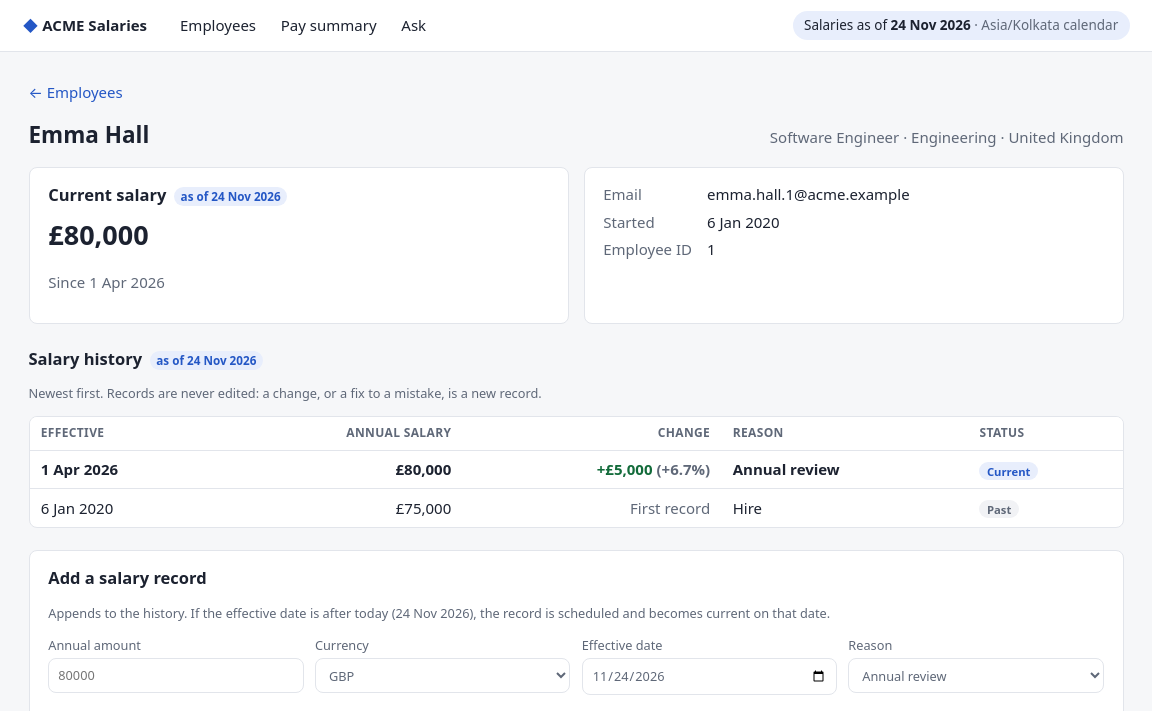
Scenario: add salary record form › refuses a second record on a date that already has one, before asking the server
Expected: the heading "Emma Hall" is shown, [28,118,149,152]
Type "90000" into the field labelled "Annual amount" at (176, 675), box [48,658,304,692]
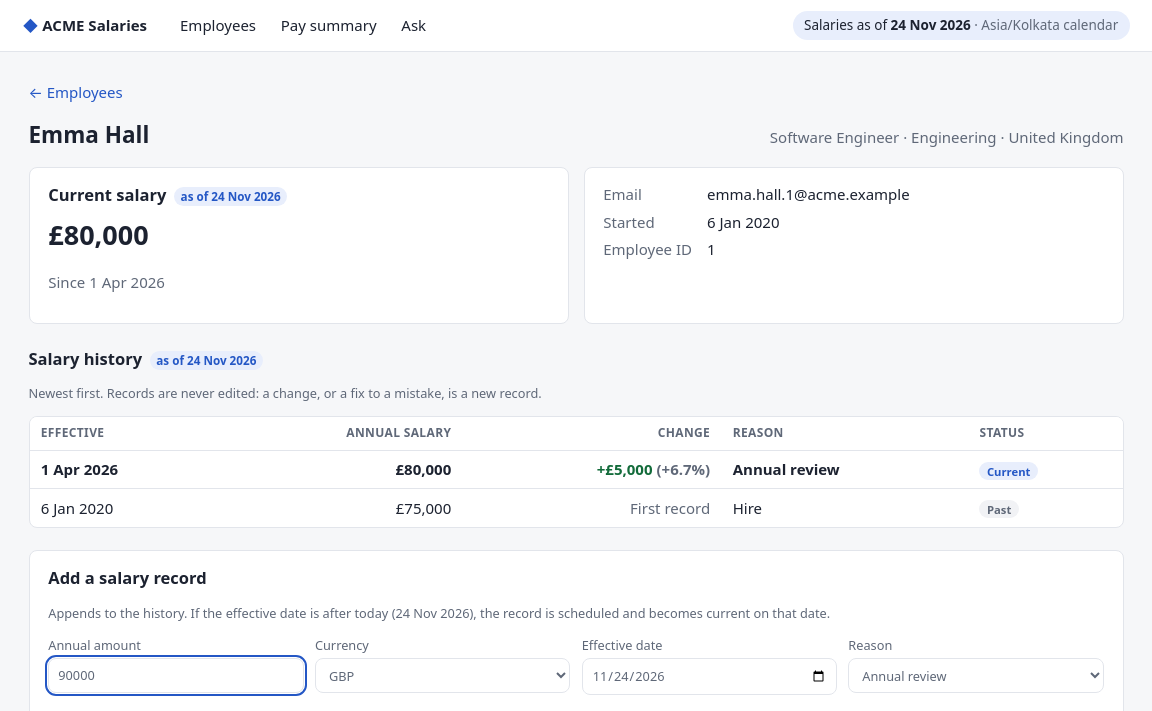
Type "2026-04-01" into the date field labelled "Effective date" at (709, 676), box [582,658,837,694]
(page scrolled)
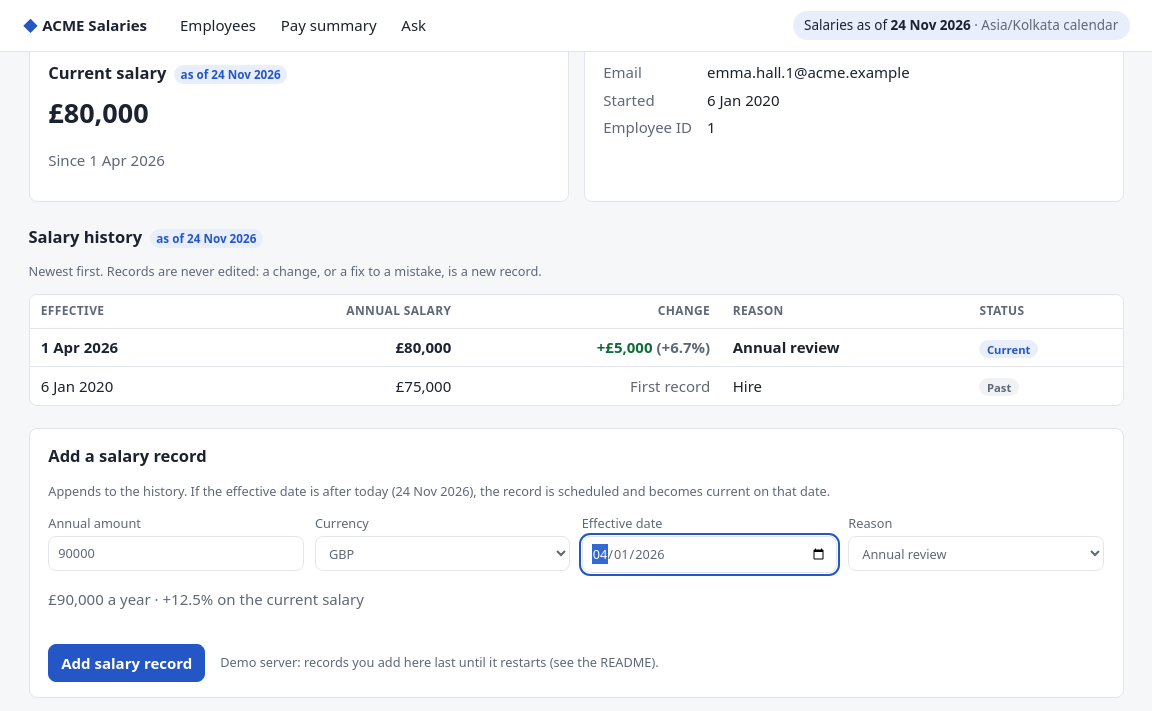
Click the button "Add salary record" at (127, 663), box [48,644,205,682]
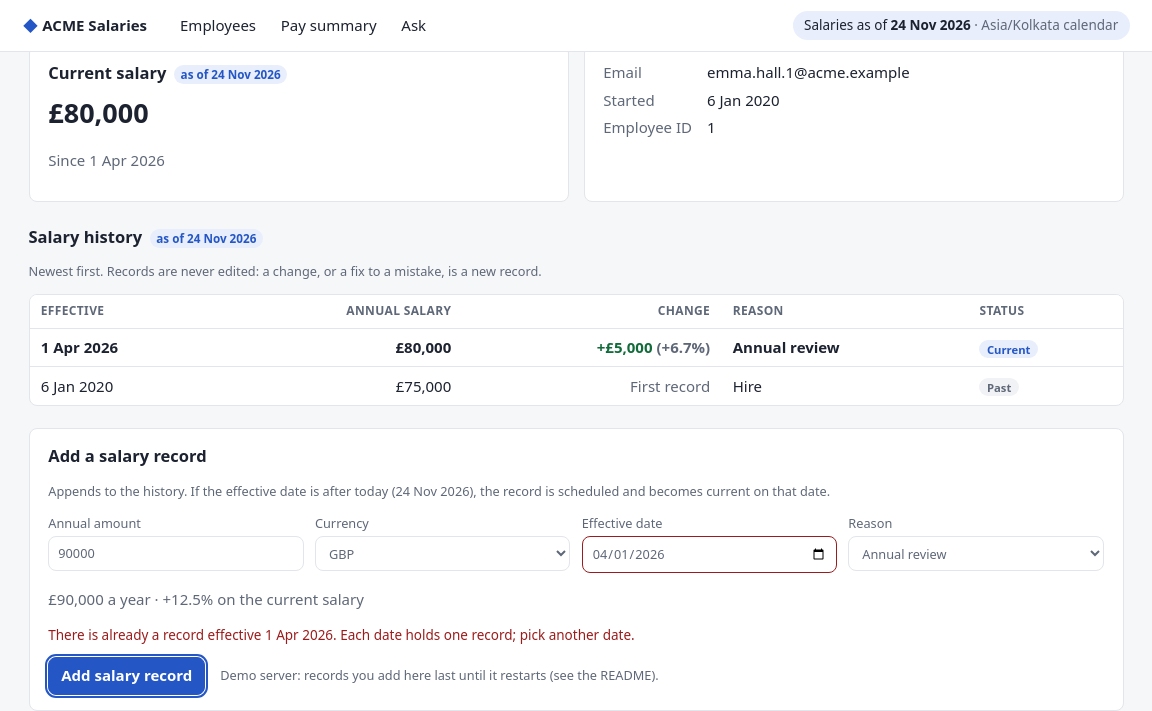
Result: the text "already a record effective 1 Apr 2026" is shown at [48,626,635,644]
